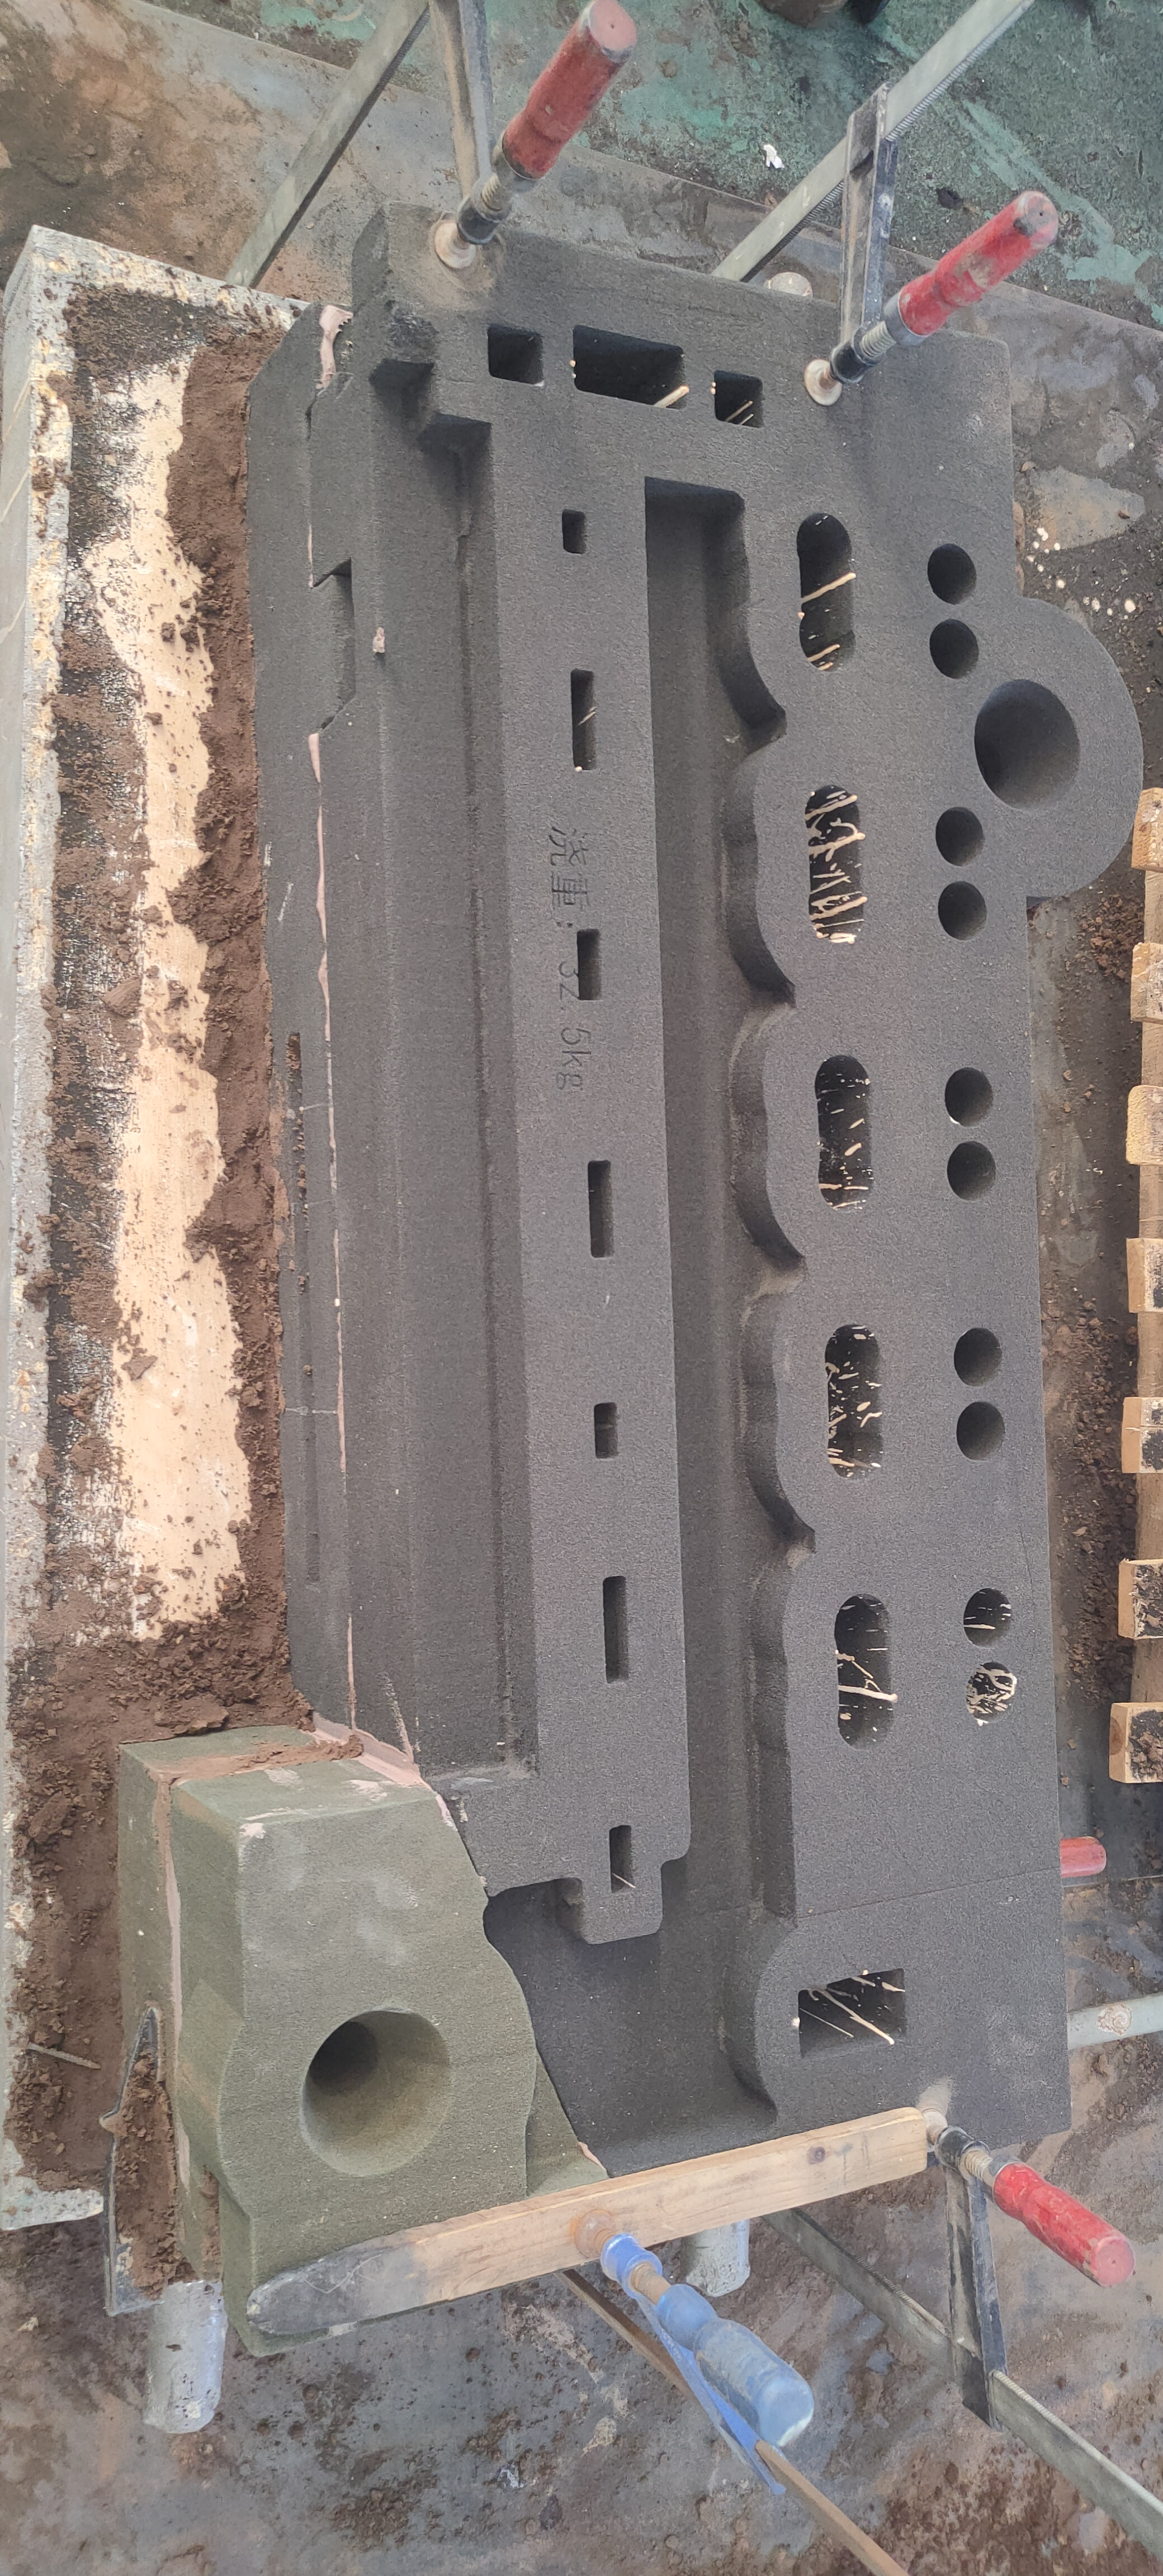pouring hole: (301, 2009, 453, 2177), (976, 678, 1081, 812)
